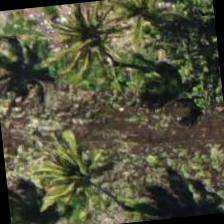Kelapa_Sawit: (44, 0, 143, 86), (32, 139, 131, 223), (91, 0, 187, 58)
